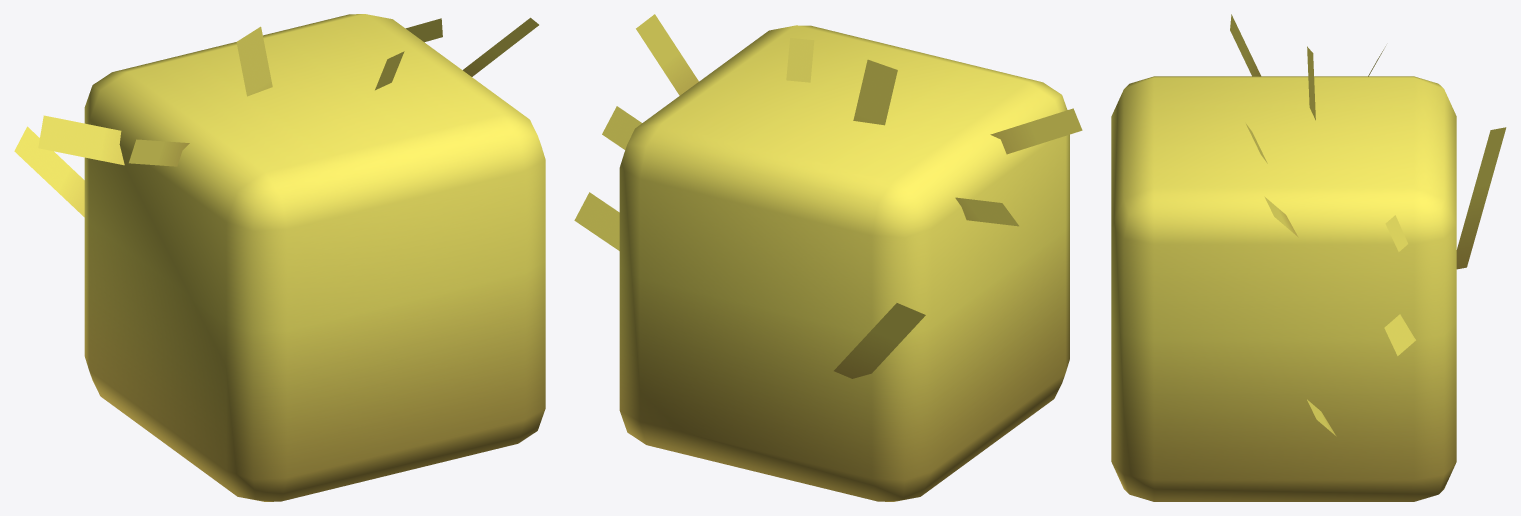
The model's file is Wheat+3.fbx.
3 views of the same model, side by side, from view 1: azimuth 30°, elevation 25°; view 2: azimuth 150°, elevation 25°; view 3: azimuth 270°, elevation 25° (orthographic). The views are drawn at different scales.
Visible parts, largest first — view 1: Wheat 3; view 2: Wheat 3; view 3: Wheat 3.
Boxes of the visible parts, <box> form: Wheat 3: <box>14,14,545,501</box>; Wheat 3: <box>574,14,1082,501</box>; Wheat 3: <box>1111,14,1506,501</box>.
Bounding box in the file's own units: 51.47 × 43.4 × 41.49.
